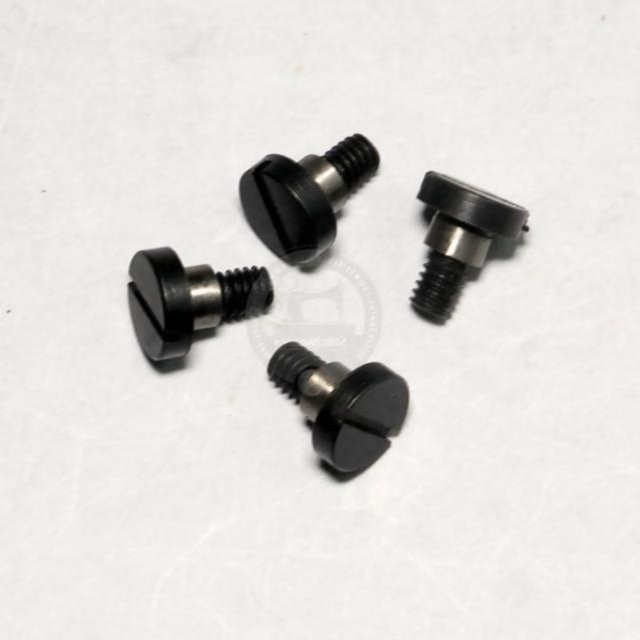duz: (236, 156, 332, 267), (319, 380, 410, 478), (126, 249, 182, 365)
